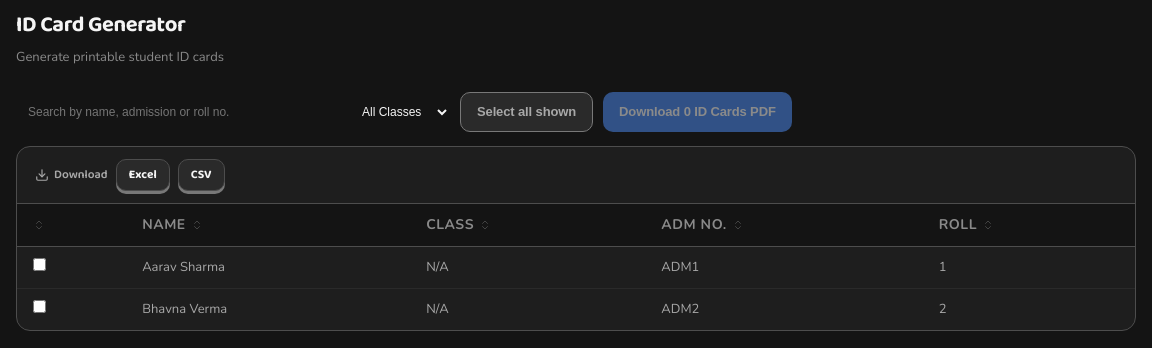
it: the ID card list › can be searched by name
This screenshot has width=1152, height=348.
Expected: the text "Aarav Sharma" is shown, [126,247,410,289]
Step 1. Type "bhavna" into the field with test id "id-card-search" → (176, 112), box [16,97,336,127]
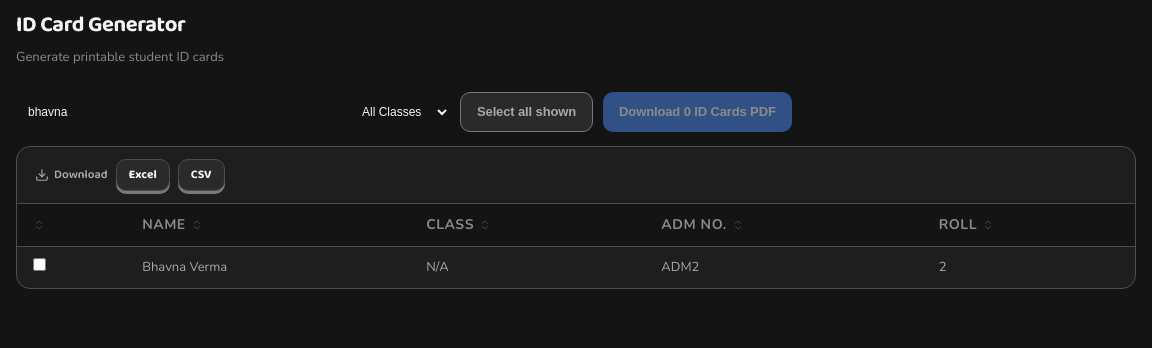
Result: the text "Aarav Sharma" is gone
Result: the text "Bhavna Verma" is shown at [126,247,410,288]
